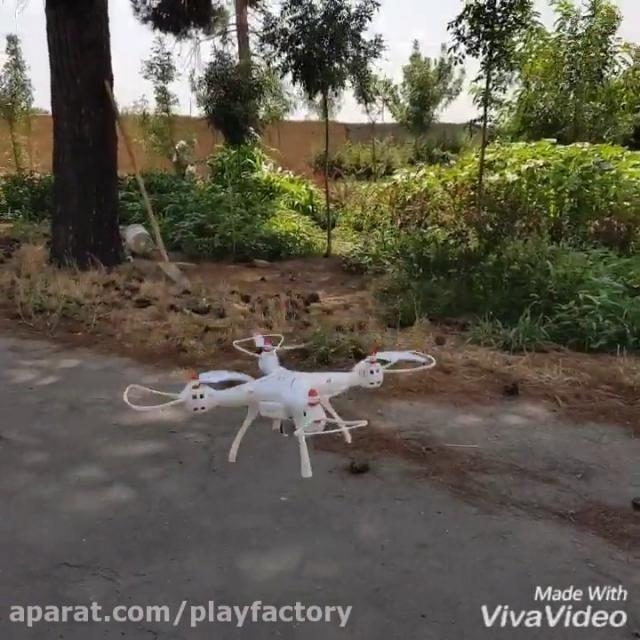drone: (122, 327, 436, 477)
